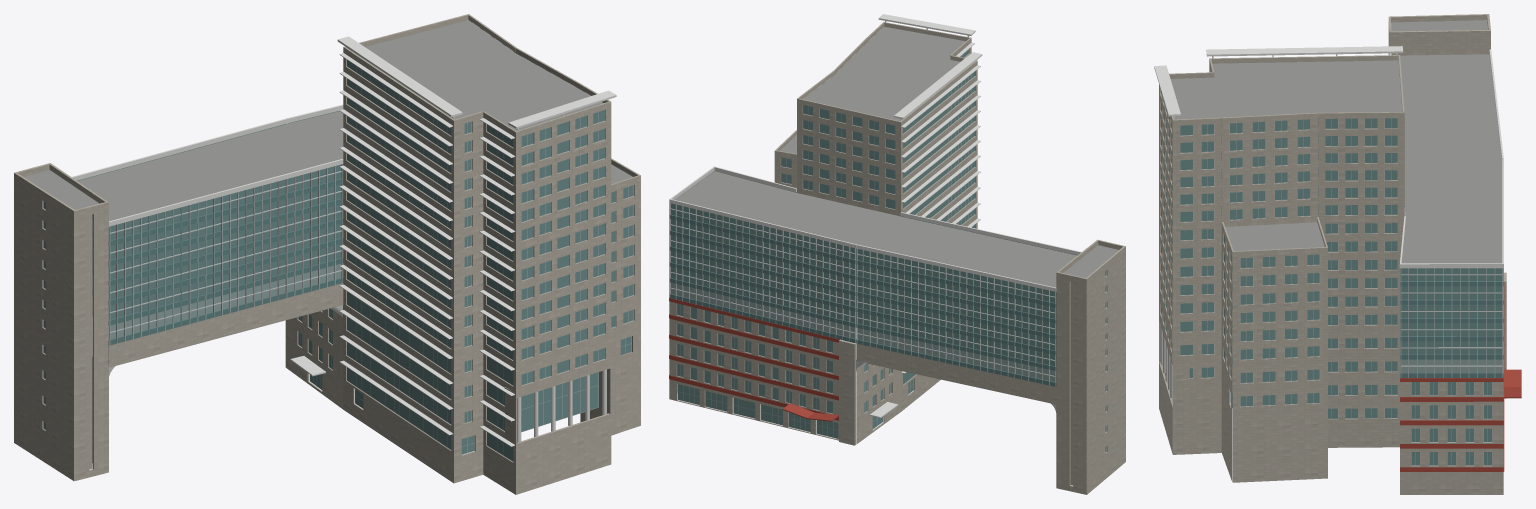
3 renders of one model, left to right at view 1: azimuth 30°, elevation 25°; view 2: azimuth 150°, elevation 25°; view 3: azimuth 270°, elevation 25°, orthographic. The views are drawn at different scales.
Parts seen in each view (by area): view 1: hongmun__stone, hongmun__glass, hongmun__roof, hongmun__paint, hongmun__frame, hongmun__spandrel, hongmun__lowglass; view 2: hongmun__stone, hongmun__glass, hongmun__roof, hongmun__frame, hongmun__spandrel, hongmun__paint, hongmun__red, hongmun__lowglass; view 3: hongmun__stone, hongmun__roof, hongmun__glass, hongmun__frame, hongmun__paint, hongmun__spandrel, hongmun__red, hongmun__lowglass.
Boxes of the visible parts, x1,y1,x2,y2 form: hongmun__stone: (14,14,640,494); hongmun__glass: (43,60,633,460); hongmun__roof: (24,20,632,221); hongmun__paint: (72,36,616,446); hongmun__frame: (43,66,633,461); hongmun__spandrel: (92,164,343,345); hongmun__lowglass: (92,209,343,339); hongmun__stone: (669,22,1125,494); hongmun__glass: (671,49,1106,451); hongmun__roof: (675,26,1118,287); hongmun__frame: (669,49,1106,452); hongmun__spandrel: (669,214,1056,386); hongmun__paint: (669,14,1081,418); hongmun__red: (669,298,839,421); hongmun__lowglass: (671,282,1056,382); hongmun__stone: (1159,14,1506,494); hongmun__roof: (1170,20,1502,263); hongmun__glass: (1161,91,1502,465); hongmun__frame: (1161,118,1503,465); hongmun__paint: (1154,46,1503,398); hongmun__spandrel: (1400,281,1503,377); hongmun__red: (1400,282,1521,471); hongmun__lowglass: (1400,359,1502,372).
Bounding box in the file's own units: 97.83 × 67.18 × 65.48.
Materials: 9 (1 with a texture image).
